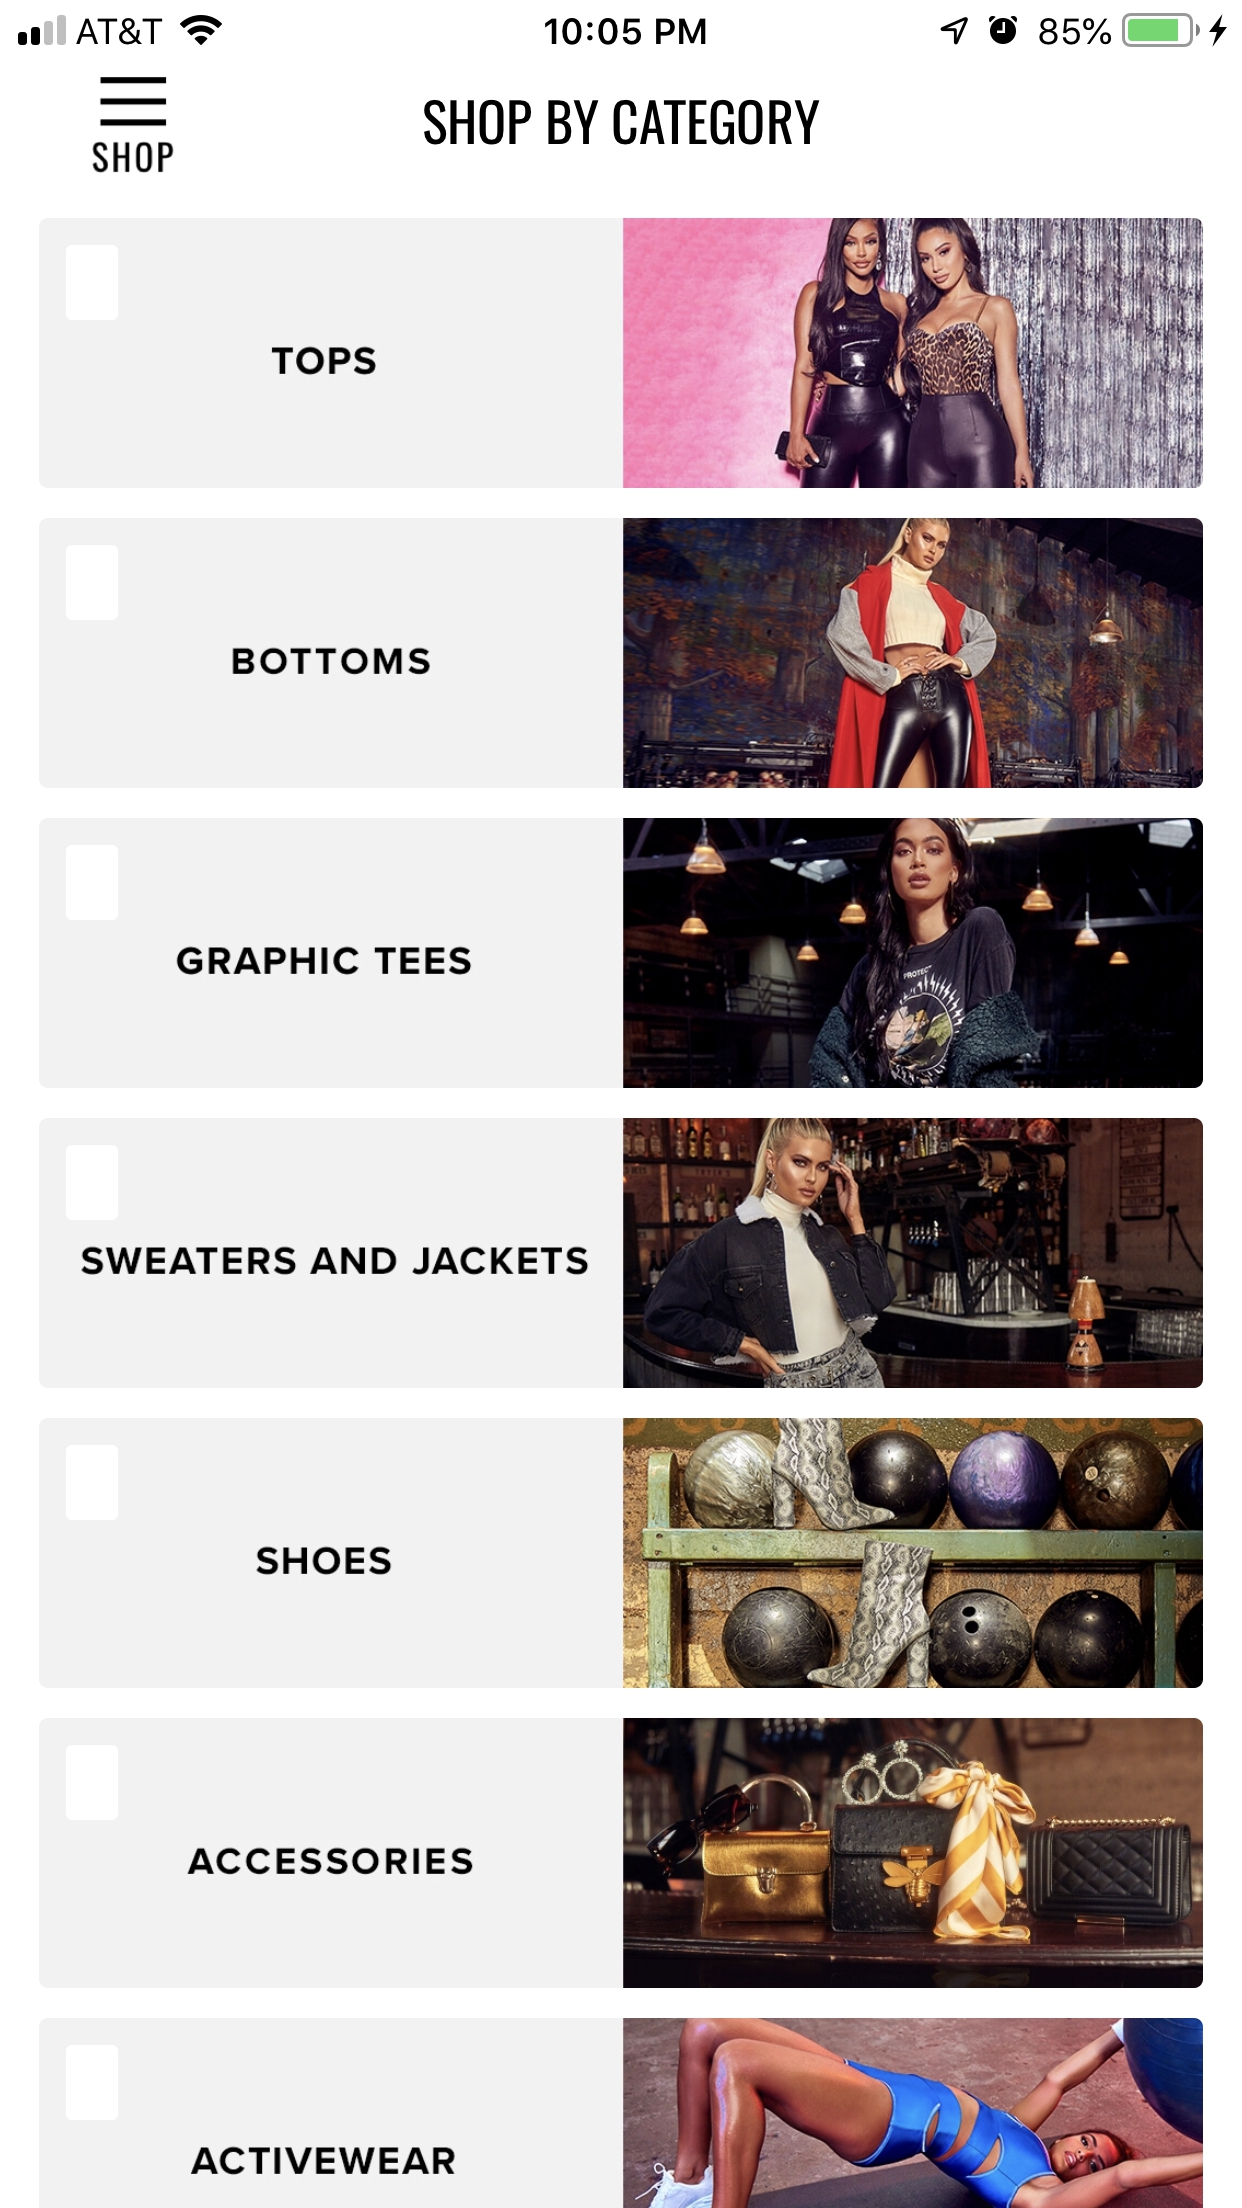Icon: (100, 77, 168, 127)
Image: (623, 1718, 1204, 1990), (623, 1418, 1204, 1689), (623, 519, 1204, 790), (623, 1118, 1203, 1389), (623, 817, 1201, 1089), (623, 218, 1204, 488), (623, 2018, 1204, 2208)
Text: (425, 100, 819, 147), (80, 1247, 588, 1275), (177, 946, 472, 977), (191, 2146, 456, 2176), (188, 1847, 475, 1874), (232, 648, 431, 676), (256, 1545, 391, 1576), (271, 347, 378, 378), (93, 143, 174, 174)
UpperTaskBar: (2, 2, 1242, 49)
